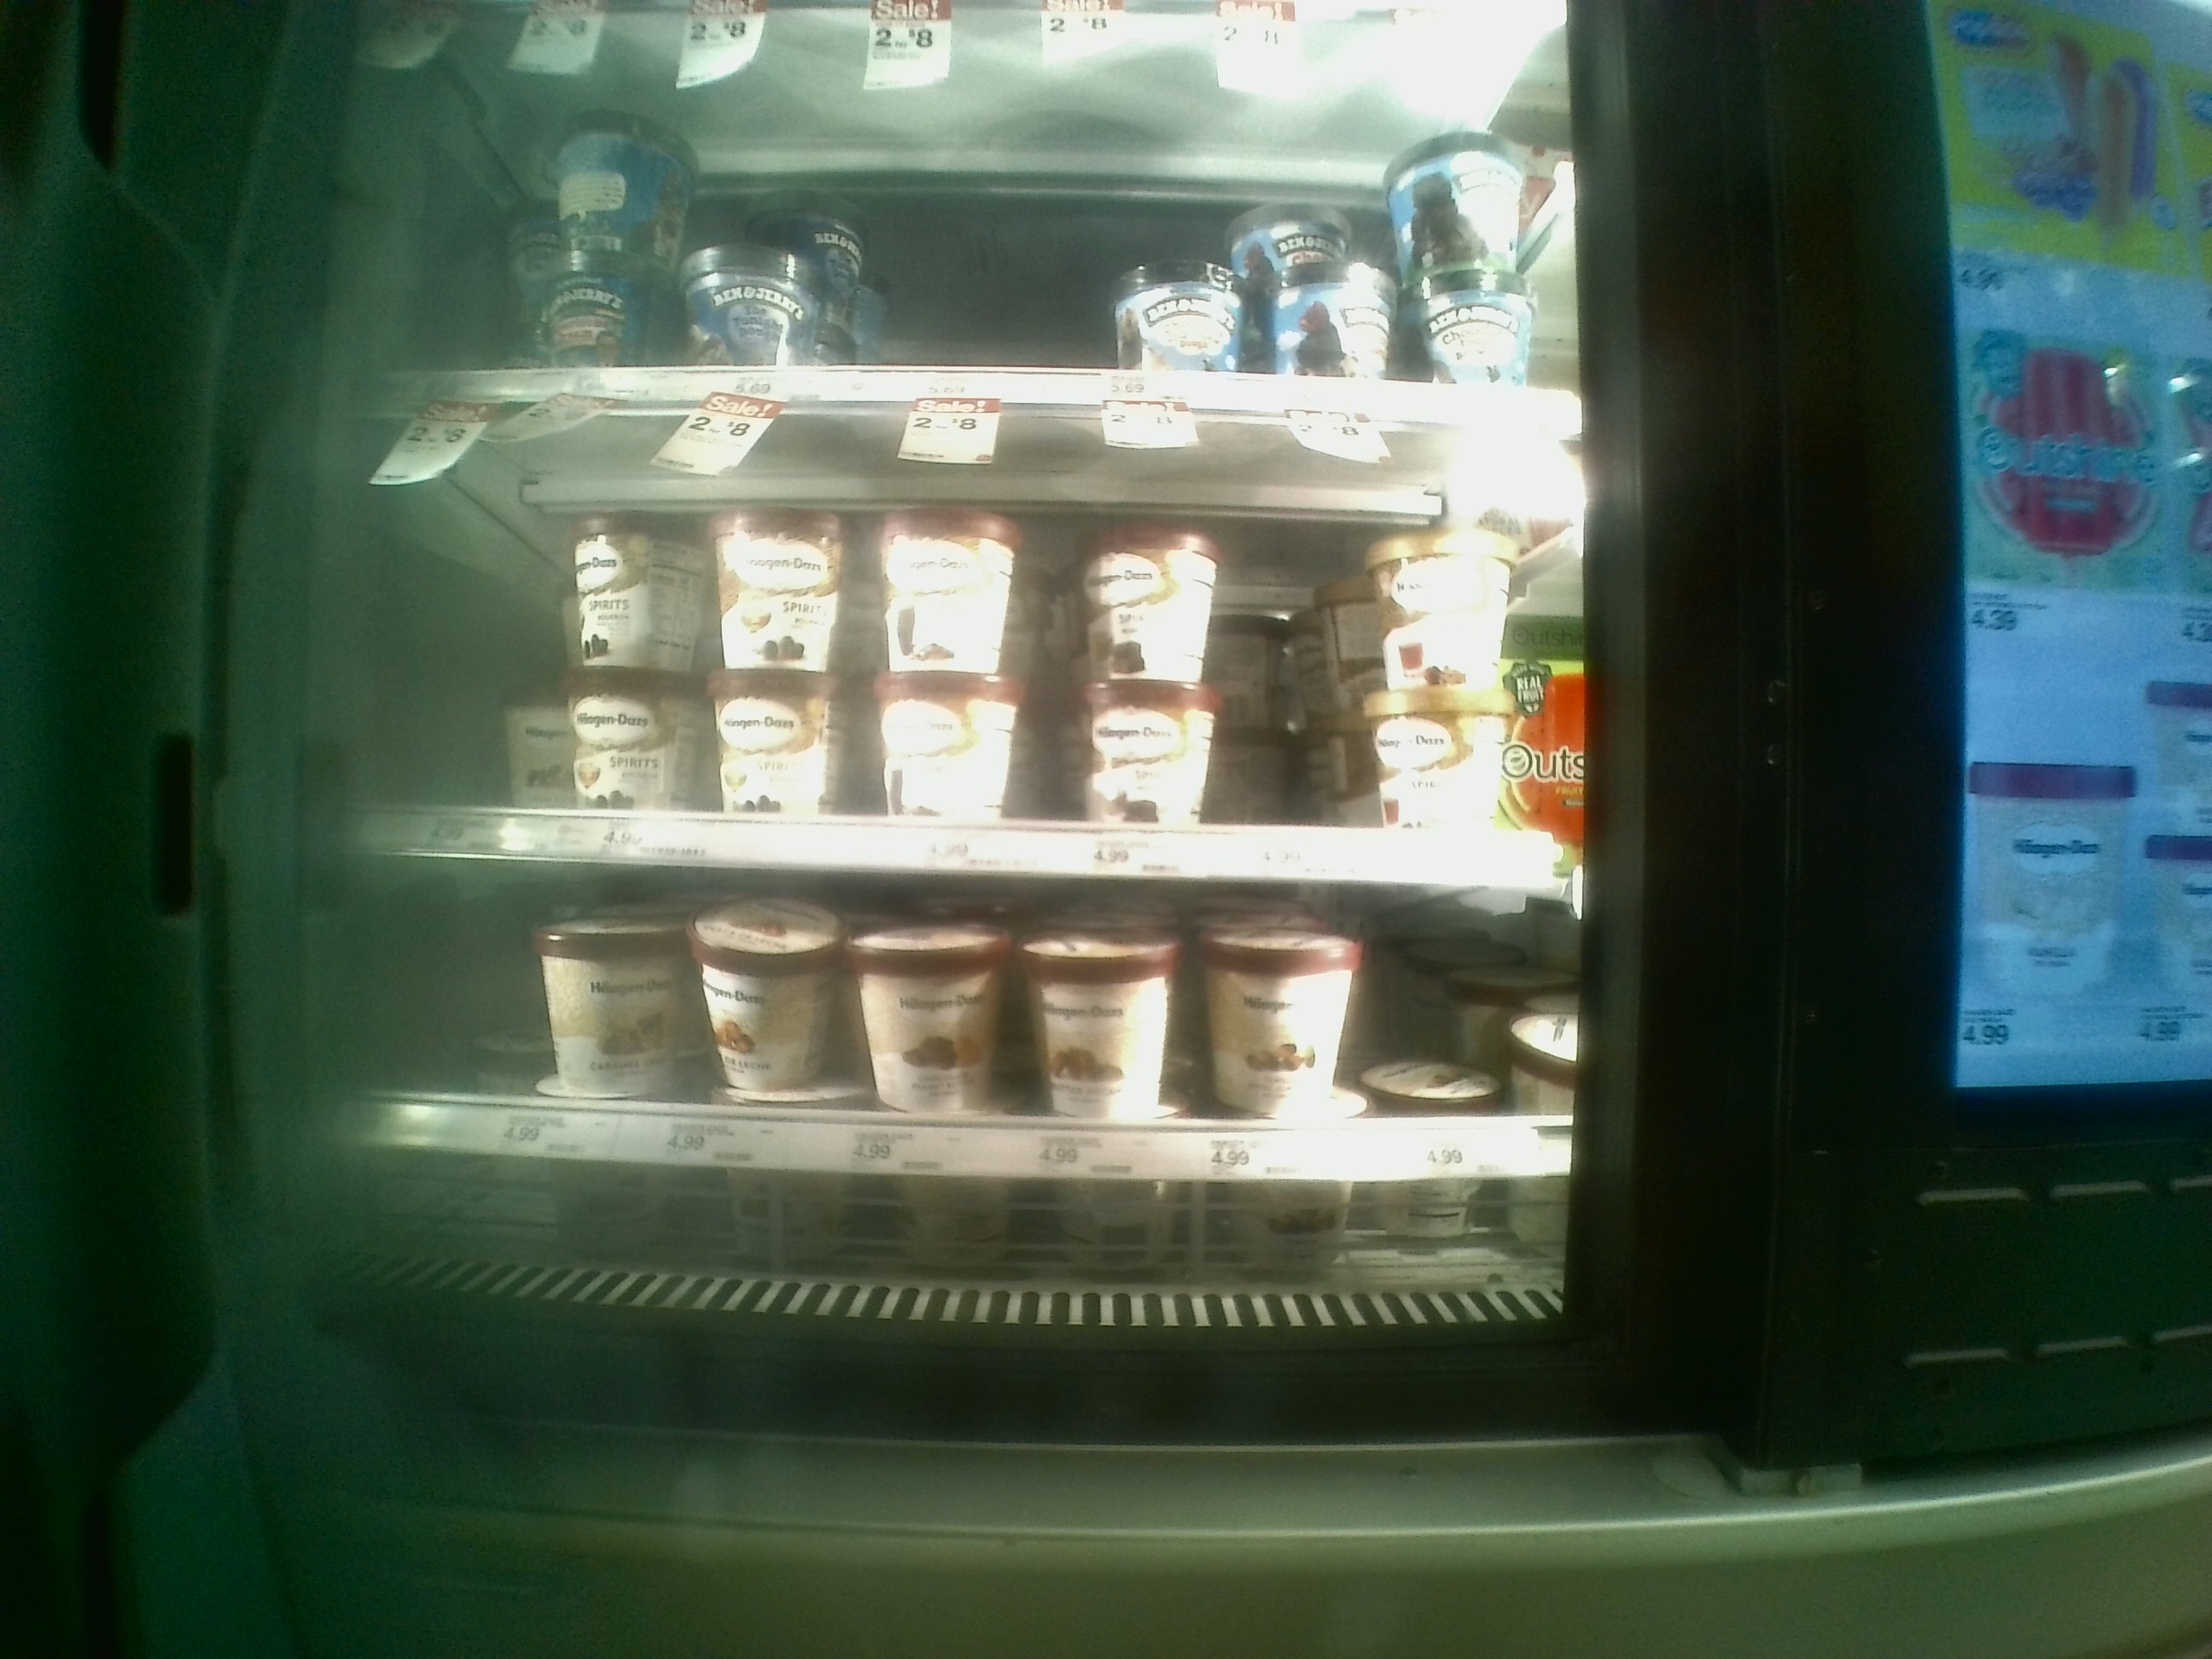shelf: (361, 415, 1583, 859), (347, 0, 1583, 415), (361, 859, 1581, 1236)
